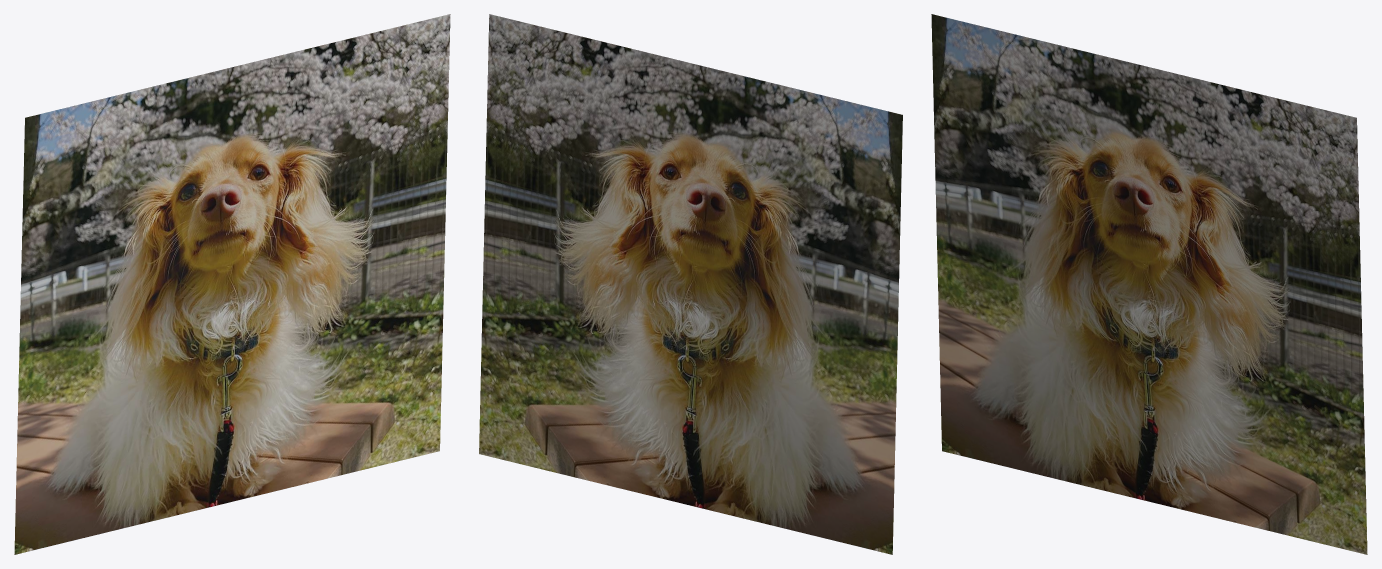
Rendered from inu-board.glb.
3 views of the same model, side by side, from view 1: azimuth 30°, elevation 25°; view 2: azimuth 150°, elevation 25°; view 3: azimuth 330°, elevation 25° (orthographic). The views are drawn at different scales.
Visible parts, largest first — view 1: LogoBoard; view 2: LogoBoard; view 3: LogoBoard.
Part boxes in pixels (<box>): LogoBoard: <box>14,14,450,554</box>; LogoBoard: <box>479,14,902,554</box>; LogoBoard: <box>931,14,1367,554</box>.
Bounding box in the file's own units: 4 × 4 × 0.1714.
1 material, 1 textured.
